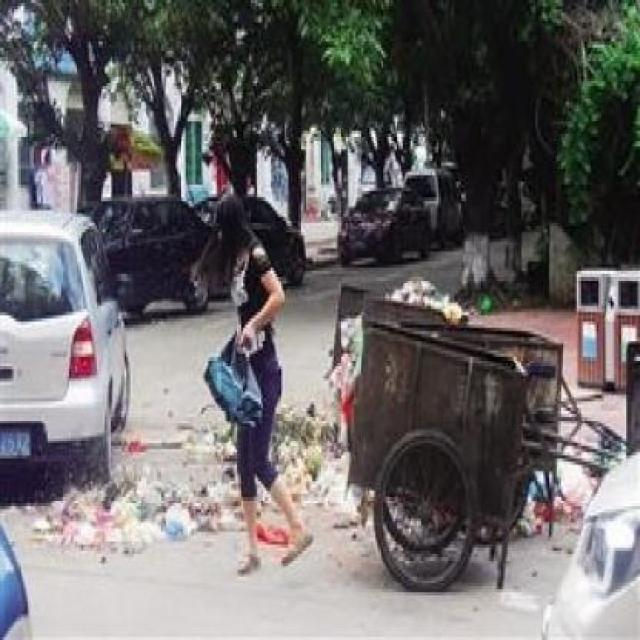garbage: (43, 456, 213, 542), (278, 405, 344, 507), (391, 268, 460, 316), (332, 303, 356, 408)
